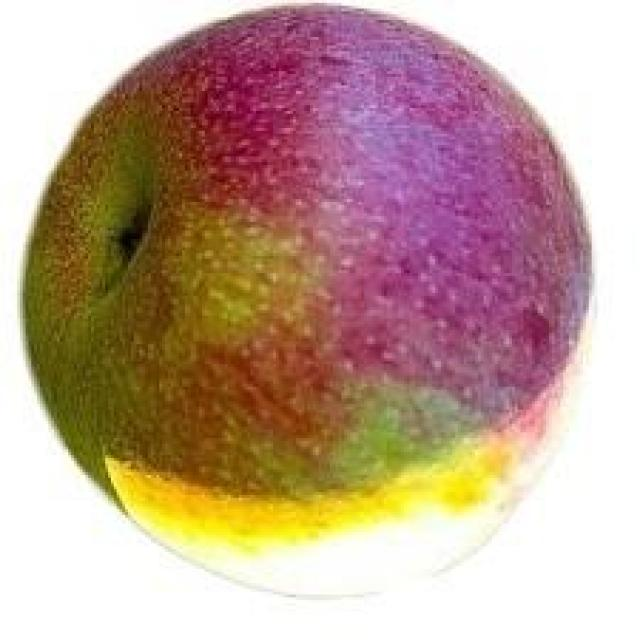Rotten Apple: (24, 2, 596, 604)
